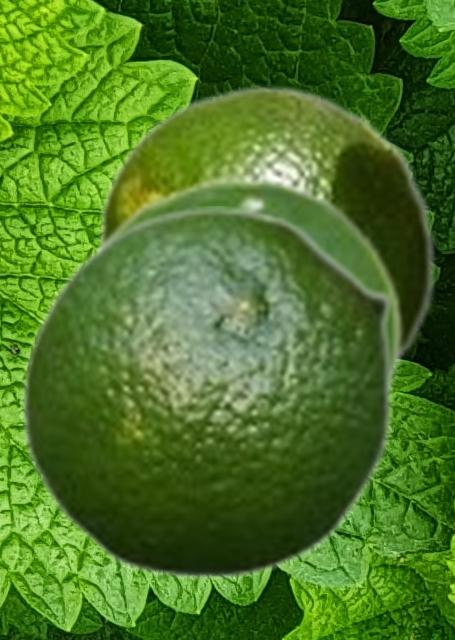calamansi: (20, 206, 395, 581), (94, 84, 437, 368), (86, 175, 404, 396)
